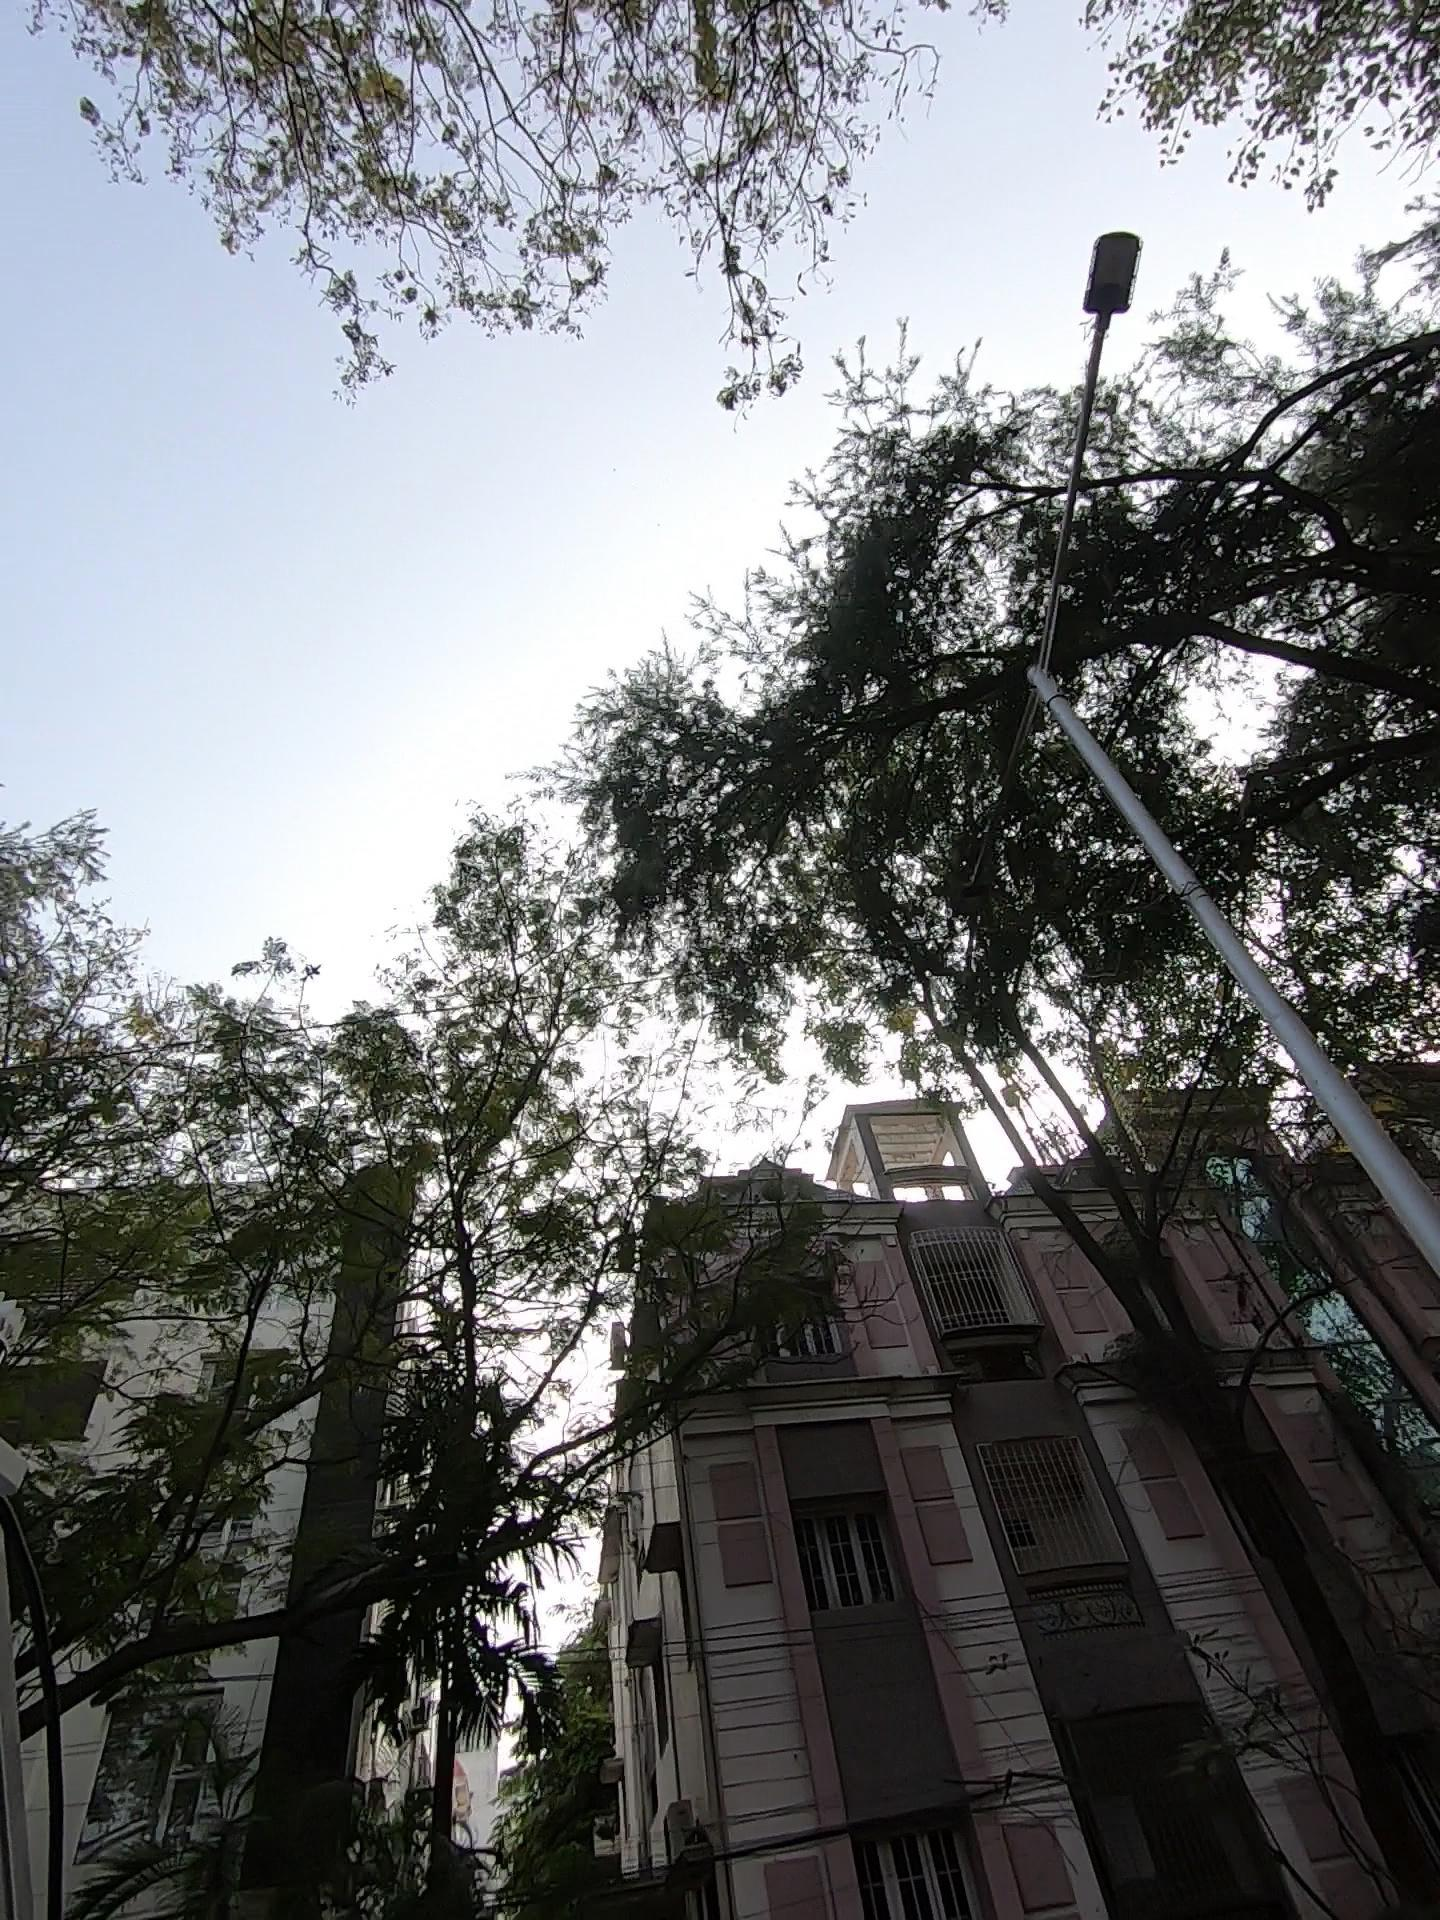off: (1004, 190, 1151, 744)
